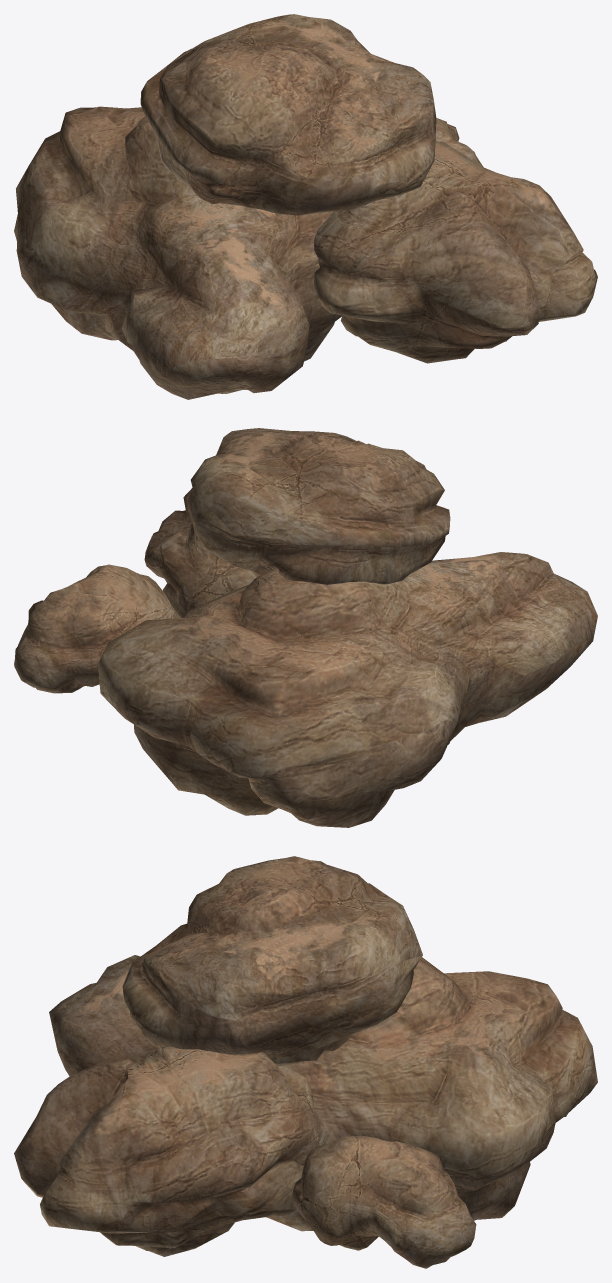
File: rock_small_group.dae
3 views of the same model, one above another, from view 1: azimuth 30°, elevation 25°; view 2: azimuth 150°, elevation 25°; view 3: azimuth 270°, elevation 25° (orthographic). The views are drawn at different scales.
Parts seen in each view (by area): view 1: Mesh; view 2: Mesh; view 3: Mesh.
Boxes of the visible parts, left/top/right/bottom form: Mesh: left=14, top=14, right=597, bottom=399; Mesh: left=14, top=428, right=597, bottom=827; Mesh: left=14, top=856, right=597, bottom=1268.
Size of the model in its own units: 5.56 by 3.87 by 6.
